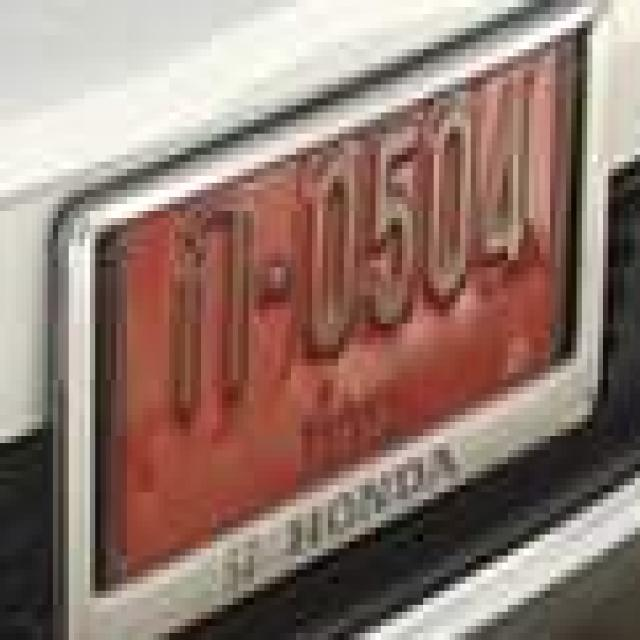license_plate: (53, 2, 608, 640)
